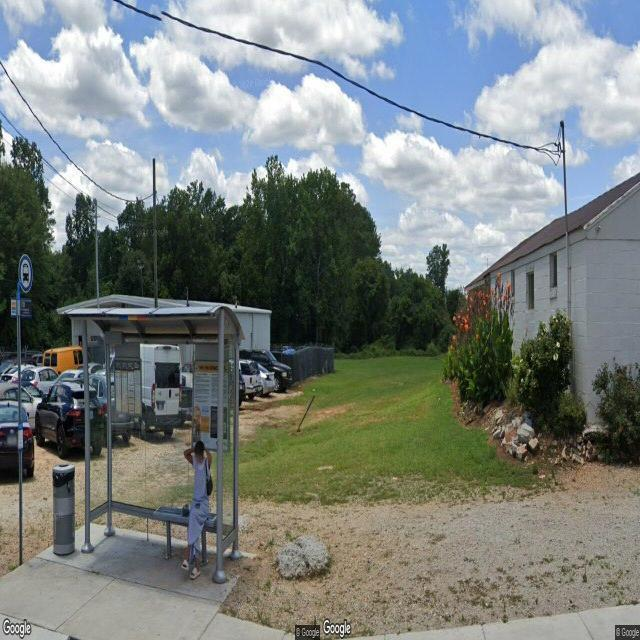seating: (143, 498, 217, 570)
shelter: (56, 304, 245, 590)
trash_can: (52, 464, 76, 557)
